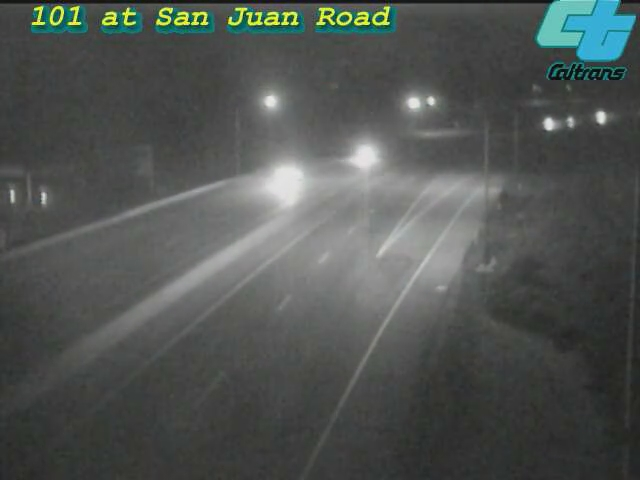vehicle: (241, 141, 321, 221), (319, 114, 399, 194), (575, 95, 625, 145), (545, 97, 595, 147), (520, 100, 570, 150)
